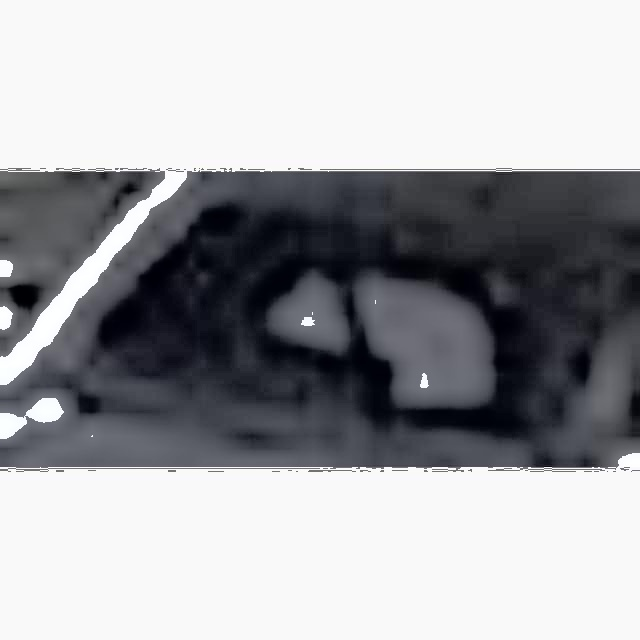pakai: (246, 234, 505, 406)
